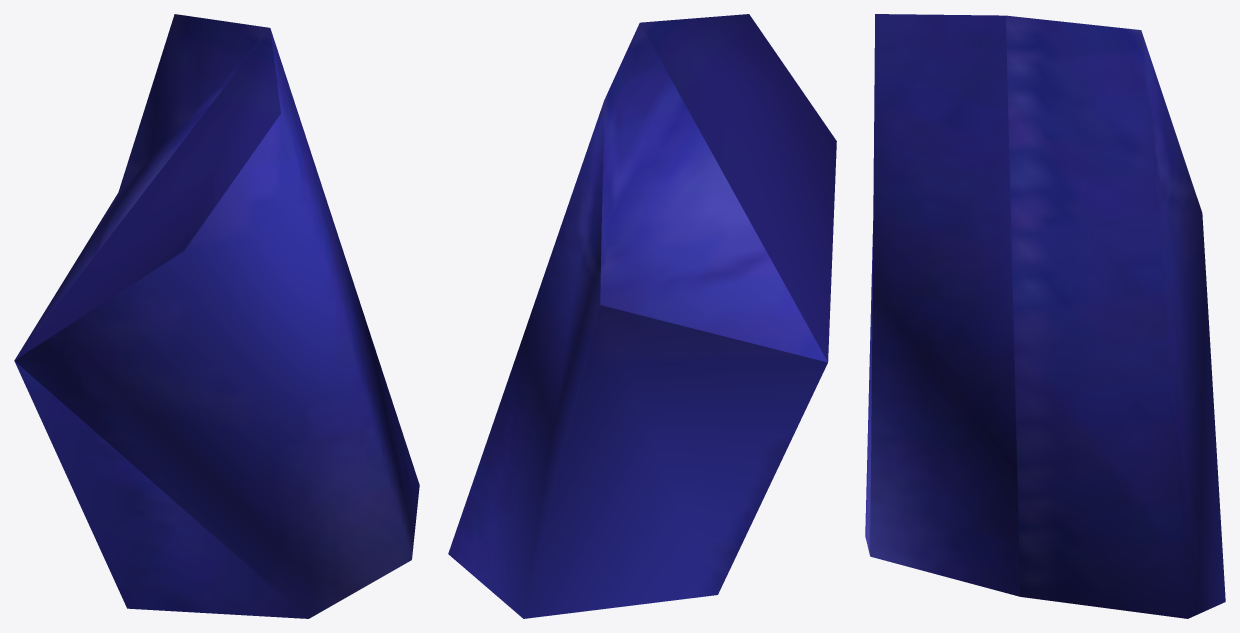
Rendered from RodillaIzqui.obj.
3 views of the same model, side by side, from view 1: azimuth 30°, elevation 25°; view 2: azimuth 150°, elevation 25°; view 3: azimuth 270°, elevation 25° (orthographic). The views are drawn at different scales.
Size of the model in its own units: 5.35 by 7.59 by 4.29.
Materials: 2 (2 with a texture image).
